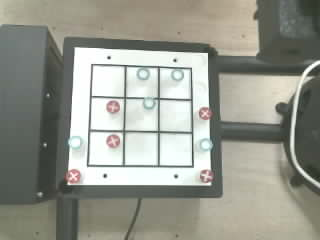blue circle: (68, 136, 82, 149), (143, 97, 155, 109), (200, 138, 212, 150), (171, 69, 183, 80), (137, 68, 149, 79)
board: (65, 46, 212, 188)
cells: (89, 132, 122, 165), (125, 133, 157, 165), (90, 98, 123, 129), (160, 68, 191, 99), (160, 134, 191, 165), (126, 99, 157, 130), (160, 100, 191, 131), (92, 66, 124, 96), (126, 67, 157, 97)
grid: (87, 64, 193, 167)
red cross: (65, 169, 80, 183), (106, 100, 119, 112), (106, 135, 119, 147), (199, 107, 212, 119), (200, 170, 213, 182)
